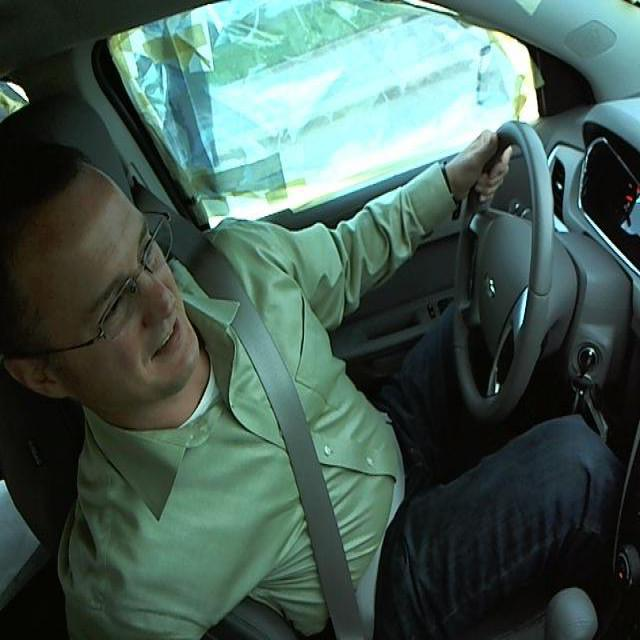seatbelt: (229, 304, 408, 632)
